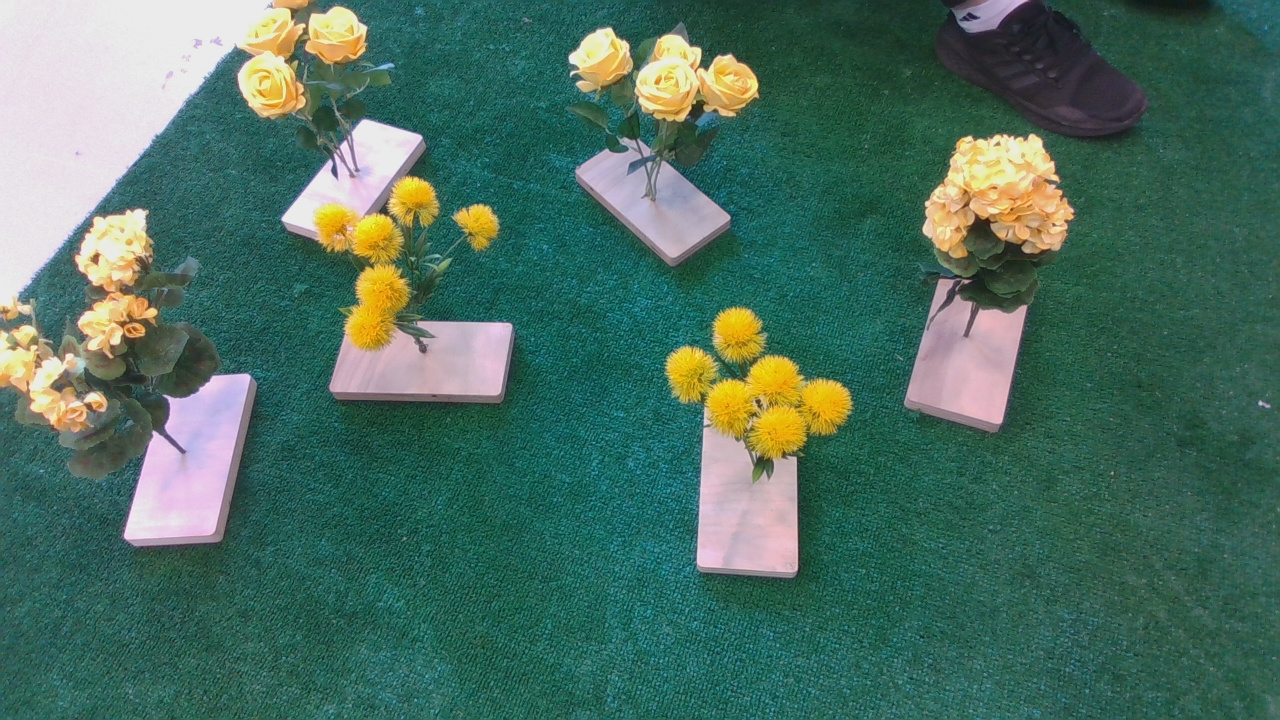dandelion: (309, 179, 506, 356), (667, 309, 864, 480)
geranium: (921, 123, 1083, 337)
rose: (568, 14, 773, 157), (237, 2, 421, 131)
